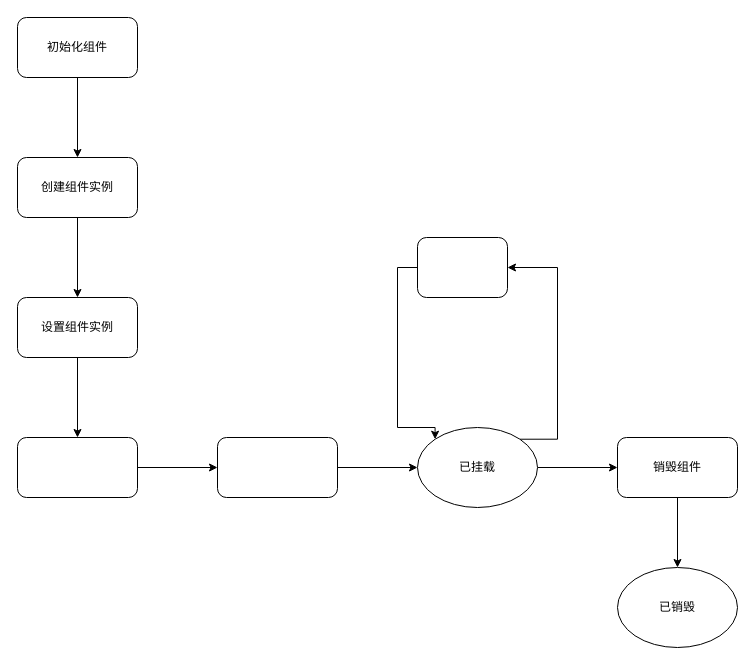
Some shapes in this 755 by 665 pixel diagram are drawn without their labels. Here are the shapes that lost their labels. From the top down, the centre of each, then its label:
(462,267): 组件重新渲染
(77,467): 渲染字数vnode
(277,467): 挂载vnode
